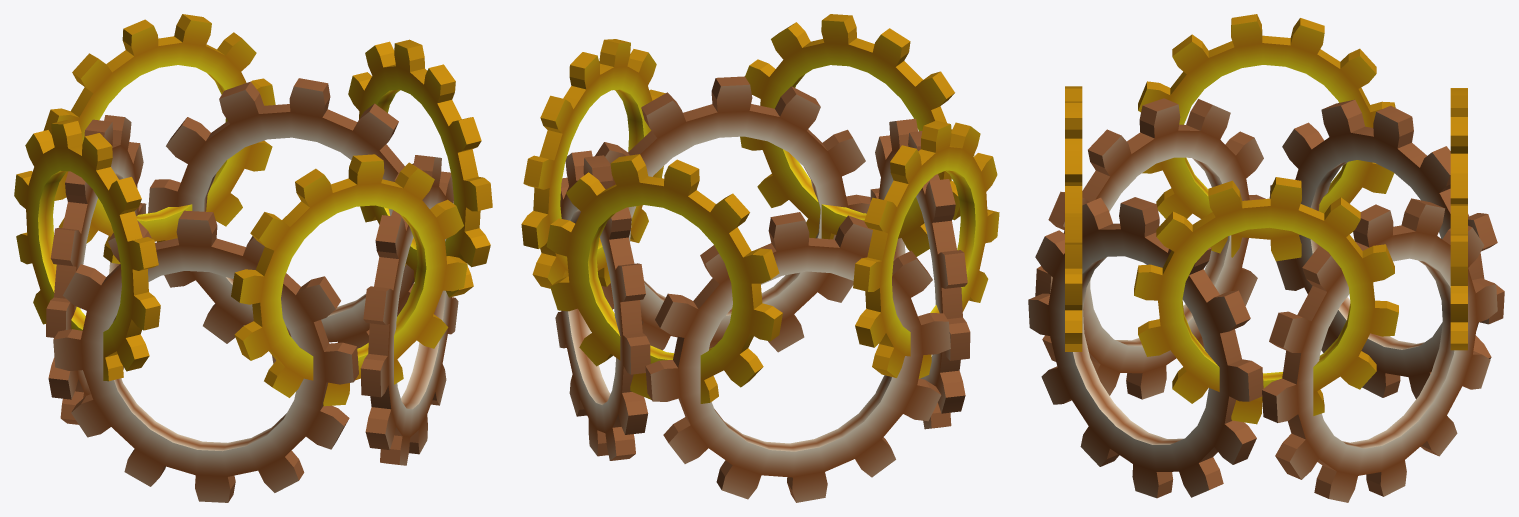
The model's file is BigGears.fbx.
The picture shows the model from 3 angles, left to right: view 1: azimuth 30°, elevation 25°; view 2: azimuth 150°, elevation 25°; view 3: azimuth 270°, elevation 25°; orthographic projection.
Parts seen in each view (by area): view 1: Gear.031, Gear.028, Gear.029, Gear.026, Gear.009, Gear.030, Gear.025, Gear.027; view 2: Gear.027, Gear.009, Gear.030, Gear.026, Gear.028, Gear.029, Gear.025, Gear.031; view 3: Gear.029, Gear.030, Gear.025, Gear.031, Gear.027, Gear.026, Gear.028, Gear.009.
Boxes of the visible parts, box(x1,y1,x2,y2) form: Gear.031: box(53, 210, 358, 502); Gear.028: box(231, 154, 467, 406); Gear.029: box(148, 78, 414, 363); Gear.026: box(14, 120, 160, 381); Gear.009: box(43, 14, 275, 263); Gear.030: box(360, 155, 458, 465); Gear.025: box(348, 39, 492, 297); Gear.027: box(46, 115, 146, 424); Gear.027: box(645, 212, 950, 502); Gear.009: box(546, 154, 782, 403); Gear.030: box(595, 76, 870, 352); Gear.026: box(853, 120, 999, 378); Gear.028: box(740, 14, 974, 256); Gear.029: box(555, 150, 650, 460); Gear.025: box(521, 39, 665, 288); Gear.031: box(870, 118, 970, 429); Gear.029: box(1262, 198, 1497, 502); Gear.030: box(1028, 197, 1263, 498); Gear.025: box(1134, 177, 1398, 424); Gear.031: box(1035, 98, 1265, 399); Gear.027: box(1269, 99, 1504, 398); Gear.026: box(1138, 14, 1395, 261); Gear.028: box(1065, 86, 1082, 351); Gear.009: box(1450, 88, 1467, 350).
Bounding box in the file's own units: 151 × 120 × 151.
